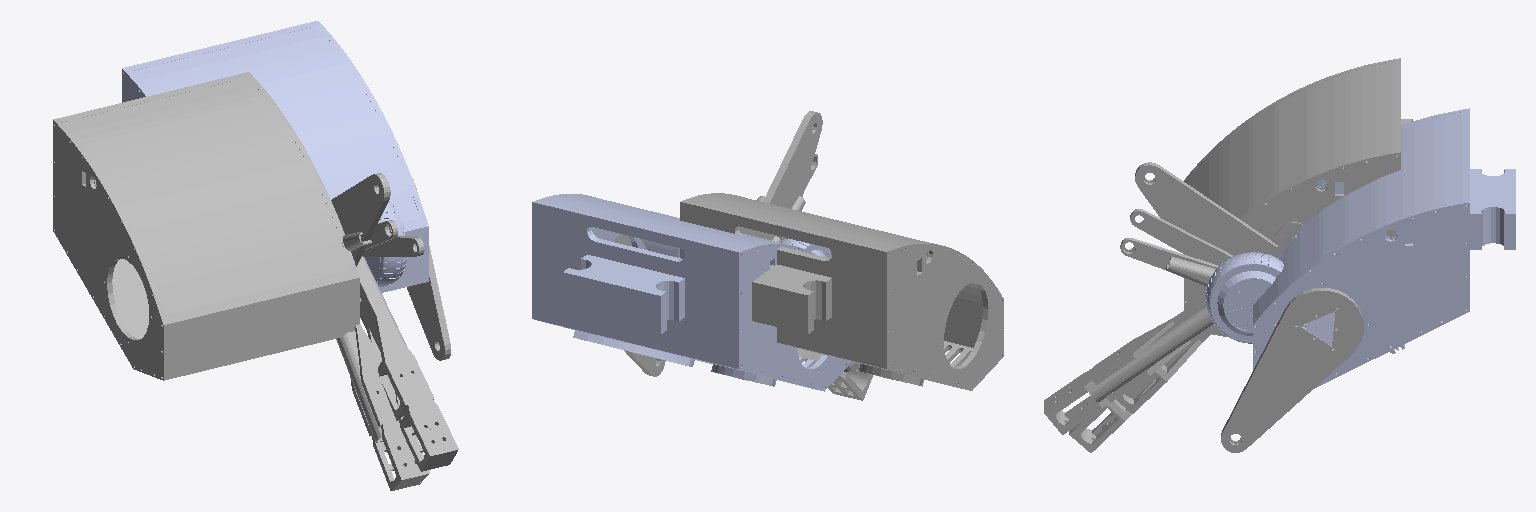
The robot description file, URDF, robot "sbr_urdf_modified1":
<?xml version="1.0" encoding="utf-8"?>
<!-- This URDF was automatically created by SolidWorks to URDF Exporter! Originally created by [author] ([email redacted]) 
     Commit Version: 1.6.0-4-g7f85cfe  Build Version: 1.6.7995.38578
     For more information, please see http://wiki.ros.org/sw_urdf_exporter -->
<robot
  name="sbr_urdf_modified1">
  <link
    name="base_link">
    <inertial>
      <origin
        xyz="0 0 0"
        rpy="0 0 0" />
      <mass
        value="6.0193" />
      <inertia
        ixx="0.056171"
        ixy="6.0708E-07"
        ixz="-1.5535E-06"
        iyy="0.063954"
        iyz="-0.01956"
        izz="0.079553" />
    </inertial>
    <visual>
      <origin
        xyz="0 0 0"
        rpy="0 0 0" />
      <geometry>
        <mesh
          filename="package://sbr_urdf_modified1/meshes/base_link.STL" />
      </geometry>
      <material
        name="">
        <color
          rgba="0.79216 0.81961 0.93333 1" />
      </material>
    </visual>
    <collision>
      <origin
        xyz="0 0 0"
        rpy="0 0 0" />
      <geometry>
        <mesh
          filename="package://sbr_urdf_modified1/meshes/base_link.STL" />
      </geometry>
    </collision>
  </link>
  <link
    name="cont_1">
    <inertial>
      <origin
        xyz="0 0 0"
        rpy="0 0 0" />
      <mass
        value="0.33847" />
      <inertia
        ixx="0.0029734"
        ixy="-1.3483E-06"
        ixz="-1.9134E-06"
        iyy="0.0018709"
        iyz="-0.001064"
        izz="0.0011107" />
    </inertial>
    <visual>
      <origin
        xyz="0 0 0"
        rpy="0 0 0" />
      <geometry>
        <mesh
          filename="package://sbr_urdf_modified1/meshes/cont_1.STL" />
      </geometry>
      <material
        name="">
        <color
          rgba="0.74902 0.74902 0.74902 1" />
      </material>
    </visual>
    <collision>
      <origin
        xyz="0 0 0"
        rpy="0 0 0" />
      <geometry>
        <mesh
          filename="package://sbr_urdf_modified1/meshes/cont_1.STL" />
      </geometry>
    </collision>
  </link>
  <joint
    name="cont_1j"
    type="revolute">
    <origin
      xyz="0 0 0"
      rpy="3.1416 0 3.1416" />
    <parent
      link="base_link" />
    <child
      link="cont_1" />
    <axis
      xyz="1 0 0" />
    <limit
      lower="-1.57"
      upper="1.57"
      effort="200"
      velocity="3" />
  </joint>
  <link
    name="Rleg_4">
    <inertial>
      <origin
        xyz="0 0 0"
        rpy="0 0 0" />
      <mass
        value="0.41509" />
      <inertia
        ixx="0.007393"
        ixy="-0.00012016"
        ixz="0.00012621"
        iyy="0.0038886"
        iyz="0.0035953"
        izz="0.0036625" />
    </inertial>
    <visual>
      <origin
        xyz="0 0 0"
        rpy="0 0 0" />
      <geometry>
        <mesh
          filename="package://sbr_urdf_modified1/meshes/Rleg_4.STL" />
      </geometry>
      <material
        name="">
        <color
          rgba="0.74902 0.74902 0.74902 1" />
      </material>
    </visual>
    <collision>
      <origin
        xyz="0 0 0"
        rpy="0 0 0" />
      <geometry>
        <mesh
          filename="package://sbr_urdf_modified1/meshes/Rleg_4.STL" />
      </geometry>
    </collision>
  </link>
  <joint
    name="Rleg_4j"
    type="revolute">
    <origin
      xyz="0 0 0"
      rpy="0 0 0" />
    <parent
      link="cont_1" />
    <child
      link="Rleg_4" />
    <axis
      xyz="1 0 0" />
    <limit
      lower="-1.57"
      upper="1.57"
      effort="0"
      velocity="0" />
  </joint>
  <link
    name="cran_2">
    <inertial>
      <origin
        xyz="0 0 0"
        rpy="0 0 0" />
      <mass
        value="0.12244" />
      <inertia
        ixx="0.00053017"
        ixy="-7.3414E-06"
        ixz="-4.272E-06"
        iyy="0.00015583"
        iyz="-0.00022067"
        izz="0.00039566" />
    </inertial>
    <visual>
      <origin
        xyz="0 0 0"
        rpy="0 0 0" />
      <geometry>
        <mesh
          filename="package://sbr_urdf_modified1/meshes/cran_2.STL" />
      </geometry>
      <material
        name="">
        <color
          rgba="0.74902 0.74902 0.74902 1" />
      </material>
    </visual>
    <collision>
      <origin
        xyz="0 0 0"
        rpy="0 0 0" />
      <geometry>
        <mesh
          filename="package://sbr_urdf_modified1/meshes/cran_2.STL" />
      </geometry>
    </collision>
  </link>
  <joint
    name="cran_2j"
    type="revolute">
    <origin
      xyz="0 0 0"
      rpy="3.1416 0 3.1416" />
    <parent
      link="base_link" />
    <child
      link="cran_2" />
    <axis
      xyz="1 0 0" />
    <limit
      lower="-1.57"
      upper="1.57"
      effort="0"
      velocity="0" />
  </joint>
  <link
    name="Rleg_3">
    <inertial>
      <origin
        xyz="0 0 0"
        rpy="0 0 0" />
      <mass
        value="0.41509" />
      <inertia
        ixx="0.007393"
        ixy="-0.00012016"
        ixz="0.00012621"
        iyy="0.0038886"
        iyz="0.0035953"
        izz="0.0036625" />
    </inertial>
    <visual>
      <origin
        xyz="0 0 0"
        rpy="0 0 0" />
      <geometry>
        <mesh
          filename="package://sbr_urdf_modified1/meshes/Rleg_3.STL" />
      </geometry>
      <material
        name="">
        <color
          rgba="0.74902 0.74902 0.74902 1" />
      </material>
    </visual>
    <collision>
      <origin
        xyz="0 0 0"
        rpy="0 0 0" />
      <geometry>
        <mesh
          filename="package://sbr_urdf_modified1/meshes/Rleg_3.STL" />
      </geometry>
    </collision>
  </link>
  <joint
    name="Rleg_3j"
    type="revolute">
    <origin
      xyz="0 0 0"
      rpy="0 0 0" />
    <parent
      link="cran_2" />
    <child
      link="Rleg_3" />
    <axis
      xyz="1 0 0" />
    <limit
      lower="-1.57"
      upper="1.57"
      effort="0"
      velocity="0" />
  </joint>
  <link
    name="cont_6">
    <inertial>
      <origin
        xyz="0 0 0"
        rpy="0 0 0" />
      <mass
        value="6.3577" />
      <inertia
        ixx="0.059144"
        ixy="-9.9635E-07"
        ixz="1.5188E-07"
        iyy="0.065514"
        iyz="-0.018433"
        izz="0.080974" />
    </inertial>
    <visual>
      <origin
        xyz="0 0 0"
        rpy="0 0 0" />
      <geometry>
        <mesh
          filename="package://sbr_urdf_modified1/meshes/cont_6.STL" />
      </geometry>
      <material
        name="">
        <color
          rgba="0.74902 0.74902 0.74902 1" />
      </material>
    </visual>
    <collision>
      <origin
        xyz="0 0 0"
        rpy="0 0 0" />
      <geometry>
        <mesh
          filename="package://sbr_urdf_modified1/meshes/cont_6.STL" />
      </geometry>
    </collision>
  </link>
  <joint
    name="cont_6j"
    type="revolute">
    <origin
      xyz="0 0 0"
      rpy="0 0 0" />
    <parent
      link="base_link" />
    <child
      link="cont_6" />
    <axis
      xyz="1 0 0" />
    <limit
      lower="-1.57"
      upper="1.57"
      effort="200"
      velocity="3" />
  </joint>
  <link
    name="Lleg_9">
    <inertial>
      <origin
        xyz="0 0 0"
        rpy="0 0 0" />
      <mass
        value="0.41509" />
      <inertia
        ixx="0.007393"
        ixy="-0.00013888"
        ixz="-0.00010527"
        iyy="0.0027421"
        iyz="-0.0034454"
        izz="0.004809" />
    </inertial>
    <visual>
      <origin
        xyz="0 0 0"
        rpy="0 0 0" />
      <geometry>
        <mesh
          filename="package://sbr_urdf_modified1/meshes/Lleg_9.STL" />
      </geometry>
      <material
        name="">
        <color
          rgba="0.74902 0.74902 0.74902 1" />
      </material>
    </visual>
    <collision>
      <origin
        xyz="0 0 0"
        rpy="0 0 0" />
      <geometry>
        <mesh
          filename="package://sbr_urdf_modified1/meshes/Lleg_9.STL" />
      </geometry>
    </collision>
  </link>
  <joint
    name="Lleg_9j"
    type="revolute">
    <origin
      xyz="0 0 0"
      rpy="0 0 0" />
    <parent
      link="cont_6" />
    <child
      link="Lleg_9" />
    <axis
      xyz="-1 0 0" />
    <limit
      lower="-1.57"
      upper="1.57"
      effort="0"
      velocity="0" />
  </joint>
  <link
    name="cran_7">
    <inertial>
      <origin
        xyz="0 0 0"
        rpy="0 0 0" />
      <mass
        value="0.12244" />
      <inertia
        ixx="0.00053017"
        ixy="-7.9118E-06"
        ixz="3.0903E-06"
        iyy="8.7888E-05"
        iyz="0.00016669"
        izz="0.00046361" />
    </inertial>
    <visual>
      <origin
        xyz="0 0 0"
        rpy="0 0 0" />
      <geometry>
        <mesh
          filename="package://sbr_urdf_modified1/meshes/cran_7.STL" />
      </geometry>
      <material
        name="">
        <color
          rgba="0.74902 0.74902 0.74902 1" />
      </material>
    </visual>
    <collision>
      <origin
        xyz="0 0 0"
        rpy="0 0 0" />
      <geometry>
        <mesh
          filename="package://sbr_urdf_modified1/meshes/cran_7.STL" />
      </geometry>
    </collision>
  </link>
  <joint
    name="cran_7j"
    type="revolute">
    <origin
      xyz="0 0 0"
      rpy="0 0 0" />
    <parent
      link="base_link" />
    <child
      link="cran_7" />
    <axis
      xyz="1 0 0" />
    <limit
      lower="-1.57"
      upper="1.57"
      effort="0"
      velocity="0" />
  </joint>
  <link
    name="Lleg_8">
    <inertial>
      <origin
        xyz="0 0 0"
        rpy="0 0 0" />
      <mass
        value="0.41509" />
      <inertia
        ixx="0.007393"
        ixy="-0.00013888"
        ixz="-0.00010527"
        iyy="0.0027421"
        iyz="-0.0034454"
        izz="0.004809" />
    </inertial>
    <visual>
      <origin
        xyz="0 0 0"
        rpy="0 0 0" />
      <geometry>
        <mesh
          filename="package://sbr_urdf_modified1/meshes/Lleg_8.STL" />
      </geometry>
      <material
        name="">
        <color
          rgba="0.74902 0.74902 0.74902 1" />
      </material>
    </visual>
    <collision>
      <origin
        xyz="0 0 0"
        rpy="0 0 0" />
      <geometry>
        <mesh
          filename="package://sbr_urdf_modified1/meshes/Lleg_8.STL" />
      </geometry>
    </collision>
  </link>
  <joint
    name="Lleg_8j"
    type="revolute">
    <origin
      xyz="0 0 0"
      rpy="0 0 0" />
    <parent
      link="cran_7" />
    <child
      link="Lleg_8" />
    <axis
      xyz="-1 0 0" />
    <limit
      lower="-1.57"
      upper="1.57"
      effort="0"
      velocity="0" />
  </joint>
  <link
    name="left_wheel">
    <inertial>
      <origin
        xyz="0 0 0"
        rpy="0 0 0" />
      <mass
        value="0.95801" />
      <inertia
        ixx="0.0027027"
        ixy="4.6869E-07"
        ixz="-3.4787E-07"
        iyy="0.0015854"
        iyz="-1.5648E-08"
        izz="0.0015853" />
    </inertial>
    <visual>
      <origin
        xyz="0 0 0"
        rpy="0 0 0" />
      <geometry>
        <mesh
          filename="package://sbr_urdf_modified1/meshes/left_wheel.STL" />
      </geometry>
      <material
        name="">
        <color
          rgba="0.79216 0.81961 0.93333 1" />
      </material>
    </visual>
    <collision>
      <origin
        xyz="0 0 0"
        rpy="0 0 0" />
      <geometry>
        <mesh
          filename="package://sbr_urdf_modified1/meshes/left_wheel.STL" />
      </geometry>
    </collision>
  </link>
  <joint
    name="left_wheel_j"
    type="continuous">
    <origin
      xyz="0 0 0"
      rpy="3.1416 0 3.1416" />
    <parent
      link="base_link" />
    <child
      link="left_wheel" />
    <axis
      xyz="1 0.00013999 -0.00011825" />
    <limit
      lower="-3.14"
      upper="3.14"
      effort="500"
      velocity="5" />
  </joint>
  <link
    name="right_wheel">
    <inertial>
      <origin
        xyz="0 0 0"
        rpy="0 0 0" />
      <mass
        value="0.95801" />
      <inertia
        ixx="0.0027025"
        ixy="-1.0584E-05"
        ixz="7.6501E-06"
        iyy="0.0015855"
        iyz="-7.1042E-08"
        izz="0.0015854" />
    </inertial>
    <visual>
      <origin
        xyz="0 0 0"
        rpy="0 0 0" />
      <geometry>
        <mesh
          filename="package://sbr_urdf_modified1/meshes/right_wheel.STL" />
      </geometry>
      <material
        name="">
        <color
          rgba="0.79216 0.81961 0.93333 1" />
      </material>
    </visual>
    <collision>
      <origin
        xyz="0 0 0"
        rpy="0 0 0" />
      <geometry>
        <mesh
          filename="package://sbr_urdf_modified1/meshes/right_wheel.STL" />
      </geometry>
    </collision>
  </link>
  <joint
    name="right_wheel_j"
    type="continuous">
    <origin
      xyz="0 0 0"
      rpy="3.1416 0 3.1416" />
    <parent
      link="base_link" />
    <child
      link="right_wheel" />
    <axis
      xyz="1 0 0" />
    <limit
      lower="-3.14"
      upper="3.14"
      effort="500"
      velocity="5" />
  </joint>

  <transmission name="cont_1">
  <type>transmission_interface/SimpleTransmission</type>
  <joint name="cont_1j">
  <hardwareInterface>hardware_interface/PositionJointInterface</hardwareInterface>
  </joint>
  <actuator name="cont_1">
  <hardwareInterface>hardware_interface/PositionJointInterface</hardwareInterface>
  <mechanicalReduction>1</mechanicalReduction>
  </actuator>
  </transmission>
  <transmission name="Rleg_4">
  <type>transmission_interface/SimpleTransmission</type>
  <joint name="Rleg_4j">
  <hardwareInterface>hardware_interface/PositionJointInterface</hardwareInterface>
  </joint>
  <actuator name="Rleg_4">
  <hardwareInterface>hardware_interface/PositionJointInterface</hardwareInterface>
  <mechanicalReduction>1</mechanicalReduction>
  </actuator>
  </transmission>

  <transmission name="cran_2">
  <type>transmission_interface/SimpleTransmission</type>
  <joint name="cran_2j">
  <hardwareInterface>hardware_interface/PositionJointInterface</hardwareInterface>
  </joint>
  <actuator name="cran_2">
  <hardwareInterface>hardware_interface/PositionJointInterface</hardwareInterface>
  <mechanicalReduction>1</mechanicalReduction>
  </actuator>
  </transmission>

  <transmission name="Rleg_3">
  <type>transmission_interface/SimpleTransmission</type>
  <joint name="Rleg_3j">
  <hardwareInterface>hardware_interface/PositionJointInterface</hardwareInterface>
  </joint>
  <actuator name="Rleg_3">
  <hardwareInterface>hardware_interface/PositionJointInterface</hardwareInterface>
  <mechanicalReduction>1</mechanicalReduction>
  </actuator>
  </transmission>

  <transmission name="cont_6">
  <type>transmission_interface/SimpleTransmission</type>
  <joint name="cont_6j">
  <hardwareInterface>hardware_interface/PositionJointInterface</hardwareInterface>
  </joint>
  <actuator name="cont_6">
  <hardwareInterface>hardware_interface/PositionJointInterface</hardwareInterface>
  <mechanicalReduction>1</mechanicalReduction>
  </actuator>
  </transmission>

  <transmission name="Lleg_9">
  <type>transmission_interface/SimpleTransmission</type>
  <joint name="Lleg_9j">
  <hardwareInterface>hardware_interface/PositionJointInterface</hardwareInterface>
  </joint>
  <actuator name="Lleg_9">
  <hardwareInterface>hardware_interface/PositionJointInterface</hardwareInterface>
  <mechanicalReduction>1</mechanicalReduction>
  </actuator>
  </transmission>

  <transmission name="cran_7">
  <type>transmission_interface/SimpleTransmission</type>
  <joint name="cran_7j">
  <hardwareInterface>hardware_interface/PositionJointInterface</hardwareInterface>
  </joint>
  <actuator name="cran_7">
  <hardwareInterface>hardware_interface/PositionJointInterface</hardwareInterface>
  <mechanicalReduction>1</mechanicalReduction>
  </actuator>
  </transmission>
  
  <transmission name="Lleg_8">
  <type>transmission_interface/SimpleTransmission</type>
  <joint name="Lleg_8j">
  <hardwareInterface>hardware_interface/PositionJointInterface</hardwareInterface>
  </joint>
  <actuator name="Lleg_8">
  <hardwareInterface>hardware_interface/PositionJointInterface</hardwareInterface>
  <mechanicalReduction>1</mechanicalReduction>
  </actuator>
  </transmission>
  
  <transmission name="left_wheel">
  <type>transmission_interface/SimpleTransmission</type>
  <joint name="left_wheel_j">
  <hardwareInterface>hardware_interface/PositionJointInterface</hardwareInterface>
  </joint>
  <actuator name="left_wheel">
  <hardwareInterface>hardware_interface/PositionJointInterface</hardwareInterface>
  <mechanicalReduction>1</mechanicalReduction>
  </actuator>
  </transmission>

  <transmission name="right_wheel">
  <type>transmission_interface/SimpleTransmission</type>
  <joint name="right_wheel_j">
  <hardwareInterface>hardware_interface/PositionJointInterface</hardwareInterface>
  </joint>
  <actuator name="right_wheel">
  <hardwareInterface>hardware_interface/PositionJointInterface</hardwareInterface>
  <mechanicalReduction>1</mechanicalReduction>
  </actuator>
  </transmission>

  <gazebo>
<plugin name="control" filename="libgazebo_ros_control.so">
<robotNamespace>/</robotNamespace>
</plugin>
</gazebo>

<gazebo reference="cont_1">
  <selfCollide>true</selfCollide>
</gazebo>

<gazebo reference="Rleg_4">
  <selfCollide>true</selfCollide>
</gazebo>

<gazebo reference="cran_2">
  <selfCollide>true</selfCollide>
</gazebo>

<gazebo reference="Rleg_3">
  <selfCollide>true</selfCollide>
</gazebo>

<gazebo reference="cont_6">
  <selfCollide>true</selfCollide>
</gazebo>

<gazebo reference="Lleg_9">
  <selfCollide>true</selfCollide>
</gazebo>

<gazebo reference="cran_7">
  <selfCollide>true</selfCollide>
</gazebo>

<gazebo reference="Lleg_8">
  <selfCollide>true</selfCollide>
</gazebo>

<gazebo reference="left_wheel">
  <selfCollide>true</selfCollide>
</gazebo>

<gazebo reference="right_wheel">
  <selfCollide>true</selfCollide>
</gazebo>
</robot>

--- Render facts (derived) ---
Views: 3 orthographic renders of the robot side by side, from view 1: azimuth 30°, elevation 25°; view 2: azimuth 150°, elevation 25°; view 3: azimuth 270°, elevation 25°.
Model sbr_urdf_modified1 with 11 links and 10 joints (8 revolute, 2 continuous), rooted at base_link, posed every joint at zero.
Visible links, largest first — view 1: cont_6, base_link, Lleg_8, Rleg_3, Lleg_9, cont_1, Rleg_4, right_wheel, cran_7, cran_2; view 2: cont_6, base_link, Rleg_3, cont_1; view 3: base_link, cont_6, cont_1, Lleg_8, right_wheel, Lleg_9, cran_2, cran_7, Rleg_3, Rleg_4.
Link boxes in pixels (box(x1,y1,x2,y2)): cont_6: box(53, 72, 390, 380); base_link: box(122, 21, 428, 292); Lleg_8: box(356, 256, 458, 471); Rleg_3: box(336, 324, 429, 490); Lleg_9: box(357, 257, 433, 420); cont_1: box(407, 178, 450, 360); Rleg_4: box(339, 324, 394, 435); right_wheel: box(365, 201, 406, 286); cran_7: box(362, 236, 424, 256); cran_2: box(343, 220, 397, 250); cont_6: box(680, 111, 1003, 390); base_link: box(532, 194, 850, 391); Rleg_3: box(828, 362, 872, 400); cont_1: box(613, 234, 665, 376); base_link: box(1253, 108, 1515, 388); cont_6: box(1135, 58, 1412, 336); cont_1: box(1221, 288, 1363, 452); Lleg_8: box(1044, 296, 1214, 434); right_wheel: box(1206, 252, 1286, 343); Lleg_9: box(1093, 235, 1296, 402); cran_2: box(1130, 209, 1232, 265); cran_7: box(1120, 238, 1218, 286); Rleg_3: box(1069, 326, 1216, 452); Rleg_4: box(1116, 222, 1302, 413).
Size in the robot's own frame: 0.579 by 0.783 by 0.5418 metres.
11 mesh visuals loaded from 11 distinct referenced files (11 binary STL).
